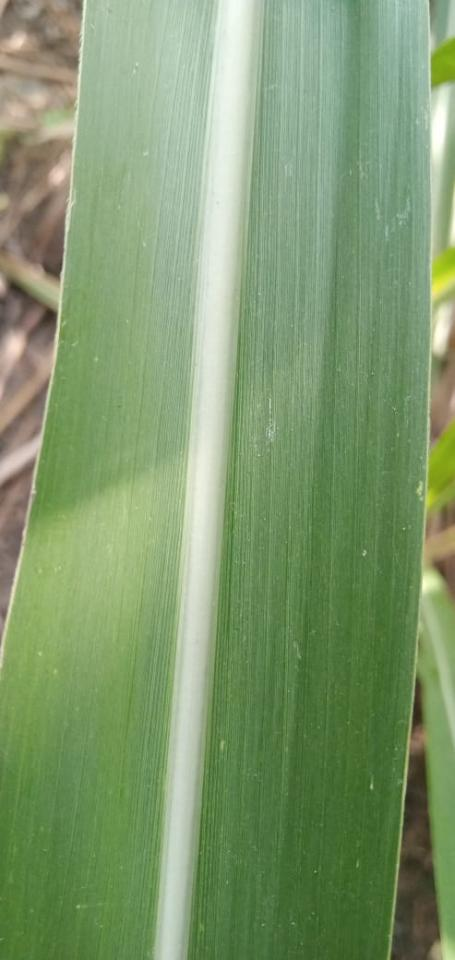Healthy: (0, 0, 436, 959)
